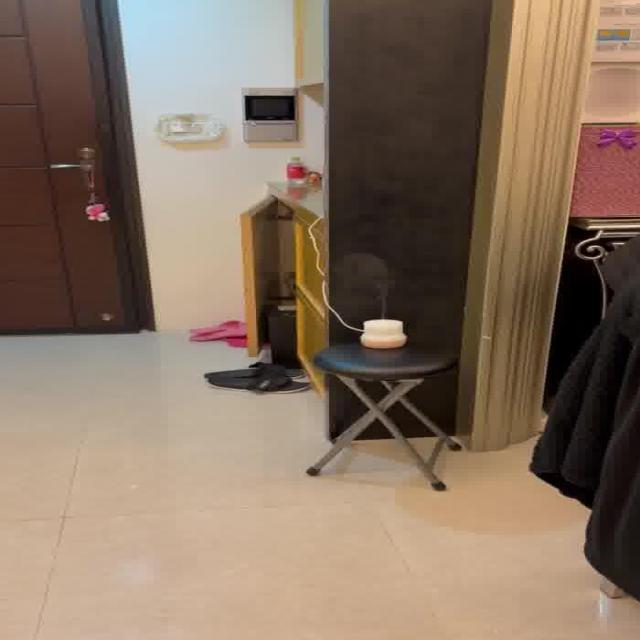fire: (344, 250, 401, 313)
